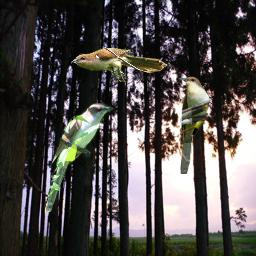Cuckoo: (44, 103, 115, 212), (71, 48, 167, 82), (178, 76, 211, 174)
